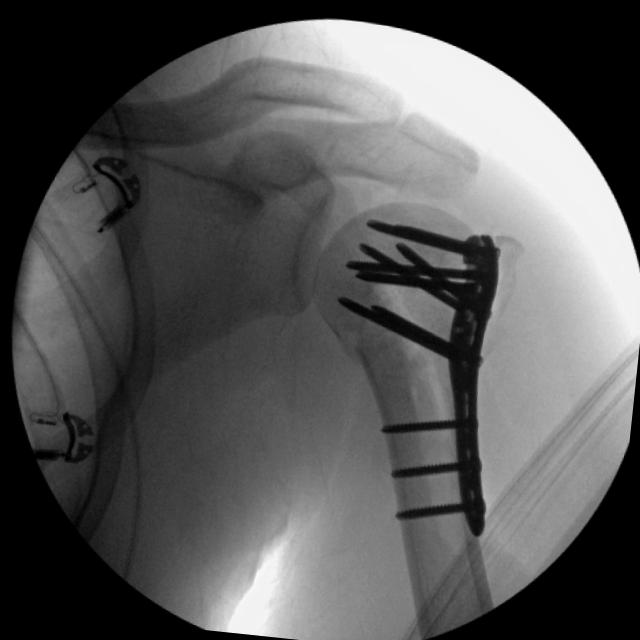shoulder fracture: (338, 64, 461, 176), (307, 294, 411, 400)
